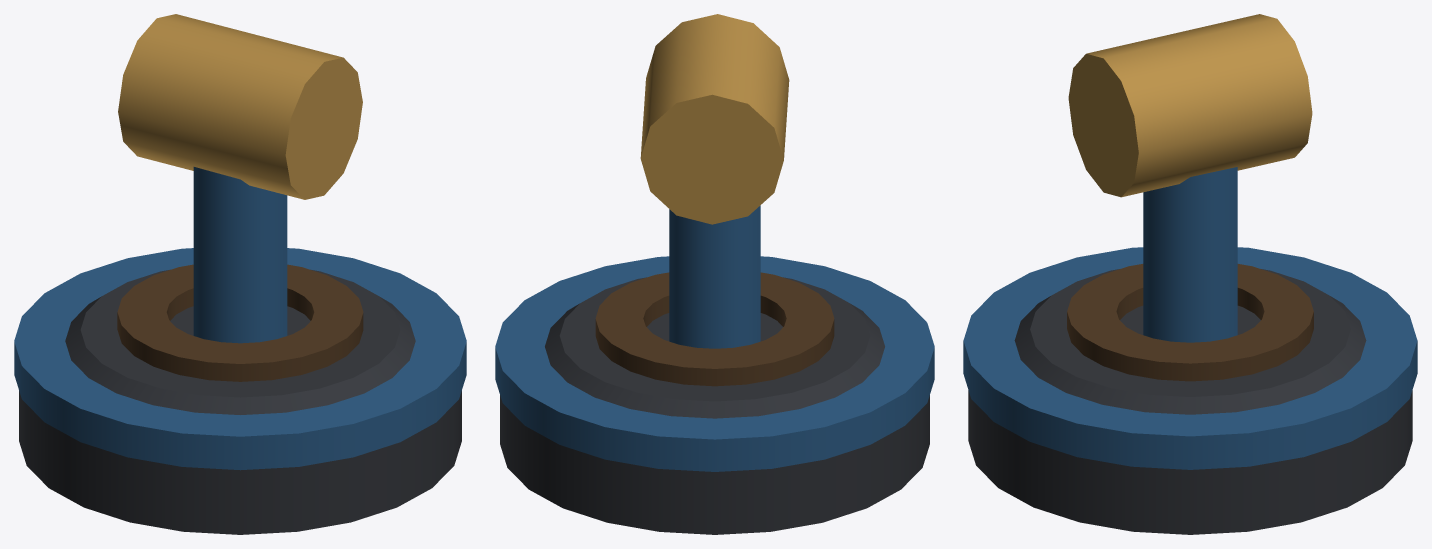
Rendered from rm2_leg_fr_foot.obj.
3 renders of one model, left to right at view 1: azimuth 30°, elevation 25°; view 2: azimuth 150°, elevation 25°; view 3: azimuth 270°, elevation 25°, orthographic. The views are drawn at different scales.
Parts seen in each view (by area): view 1: rm2_leg_fr_foot; view 2: rm2_leg_fr_foot; view 3: rm2_leg_fr_foot.
Boxes of the visible parts, box(x1,y1,x2,y2) form: rm2_leg_fr_foot: box(14, 14, 466, 534); rm2_leg_fr_foot: box(495, 14, 934, 534); rm2_leg_fr_foot: box(963, 14, 1417, 534).
Bounding box in the file's own units: 0.184 × 0.18 × 0.184.
